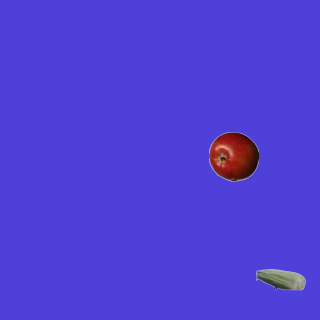Apple Braeburn: (208, 131, 258, 181)
Corn Husk: (255, 254, 305, 304)
